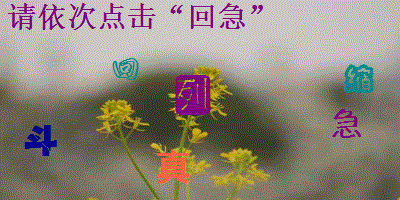text: (174, 74, 213, 117), (23, 123, 59, 159), (155, 150, 191, 185), (343, 63, 375, 95), (331, 108, 362, 141), (111, 56, 140, 81)
